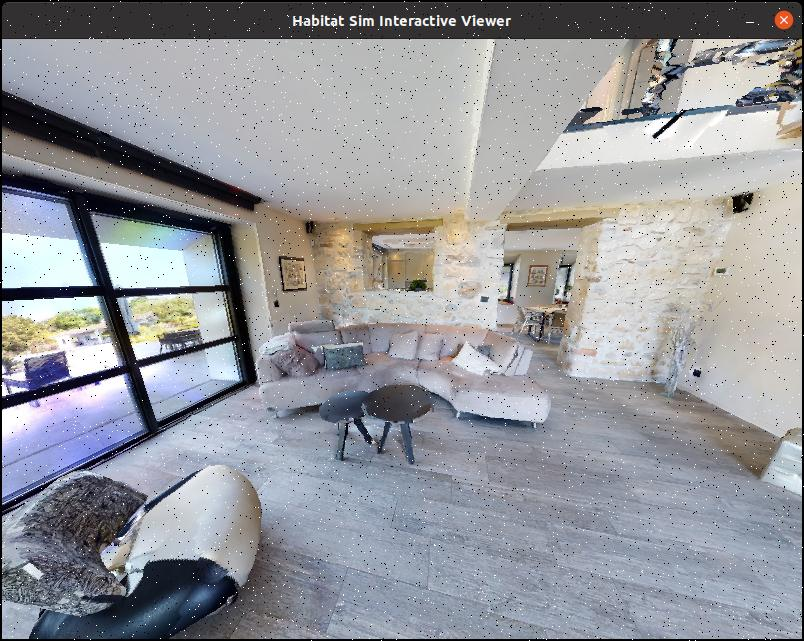sofa: (254, 314, 558, 456)
